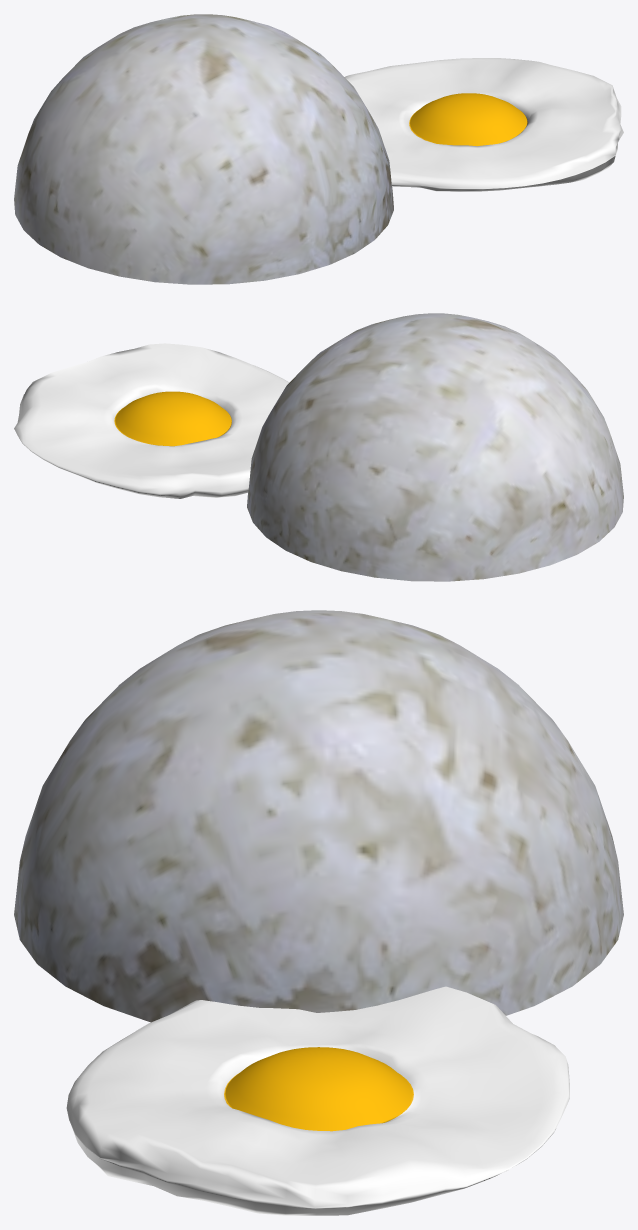
File: FriedEggRice.fbx
The picture shows the model from 3 angles, top to bottom: view 1: azimuth 30°, elevation 25°; view 2: azimuth 150°, elevation 25°; view 3: azimuth 270°, elevation 25°; orthographic projection. The views are drawn at different scales.
Visible parts, largest first — view 1: Com.002, Trungchien; view 2: Com.002, Trungchien; view 3: Com.002, Trungchien.
Part boxes in pixels (box(x1,y1,x2,y2)): Com.002: box(14, 14, 393, 284); Trungchien: box(344, 58, 623, 191); Com.002: box(247, 313, 623, 581); Trungchien: box(14, 343, 289, 498); Com.002: box(14, 610, 623, 1022); Trungchien: box(66, 986, 569, 1215).
Bounding box in the file's own units: 347 × 100 × 200.
Materials: 2 (2 with a texture image).
